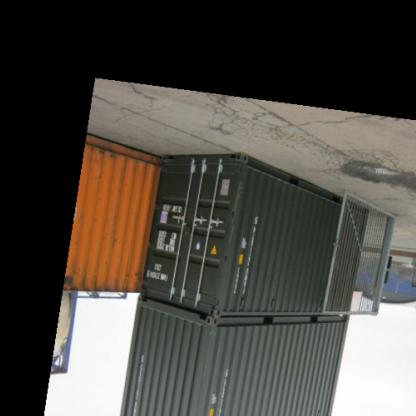Damage: (226, 182, 252, 230), (312, 404, 324, 416)
